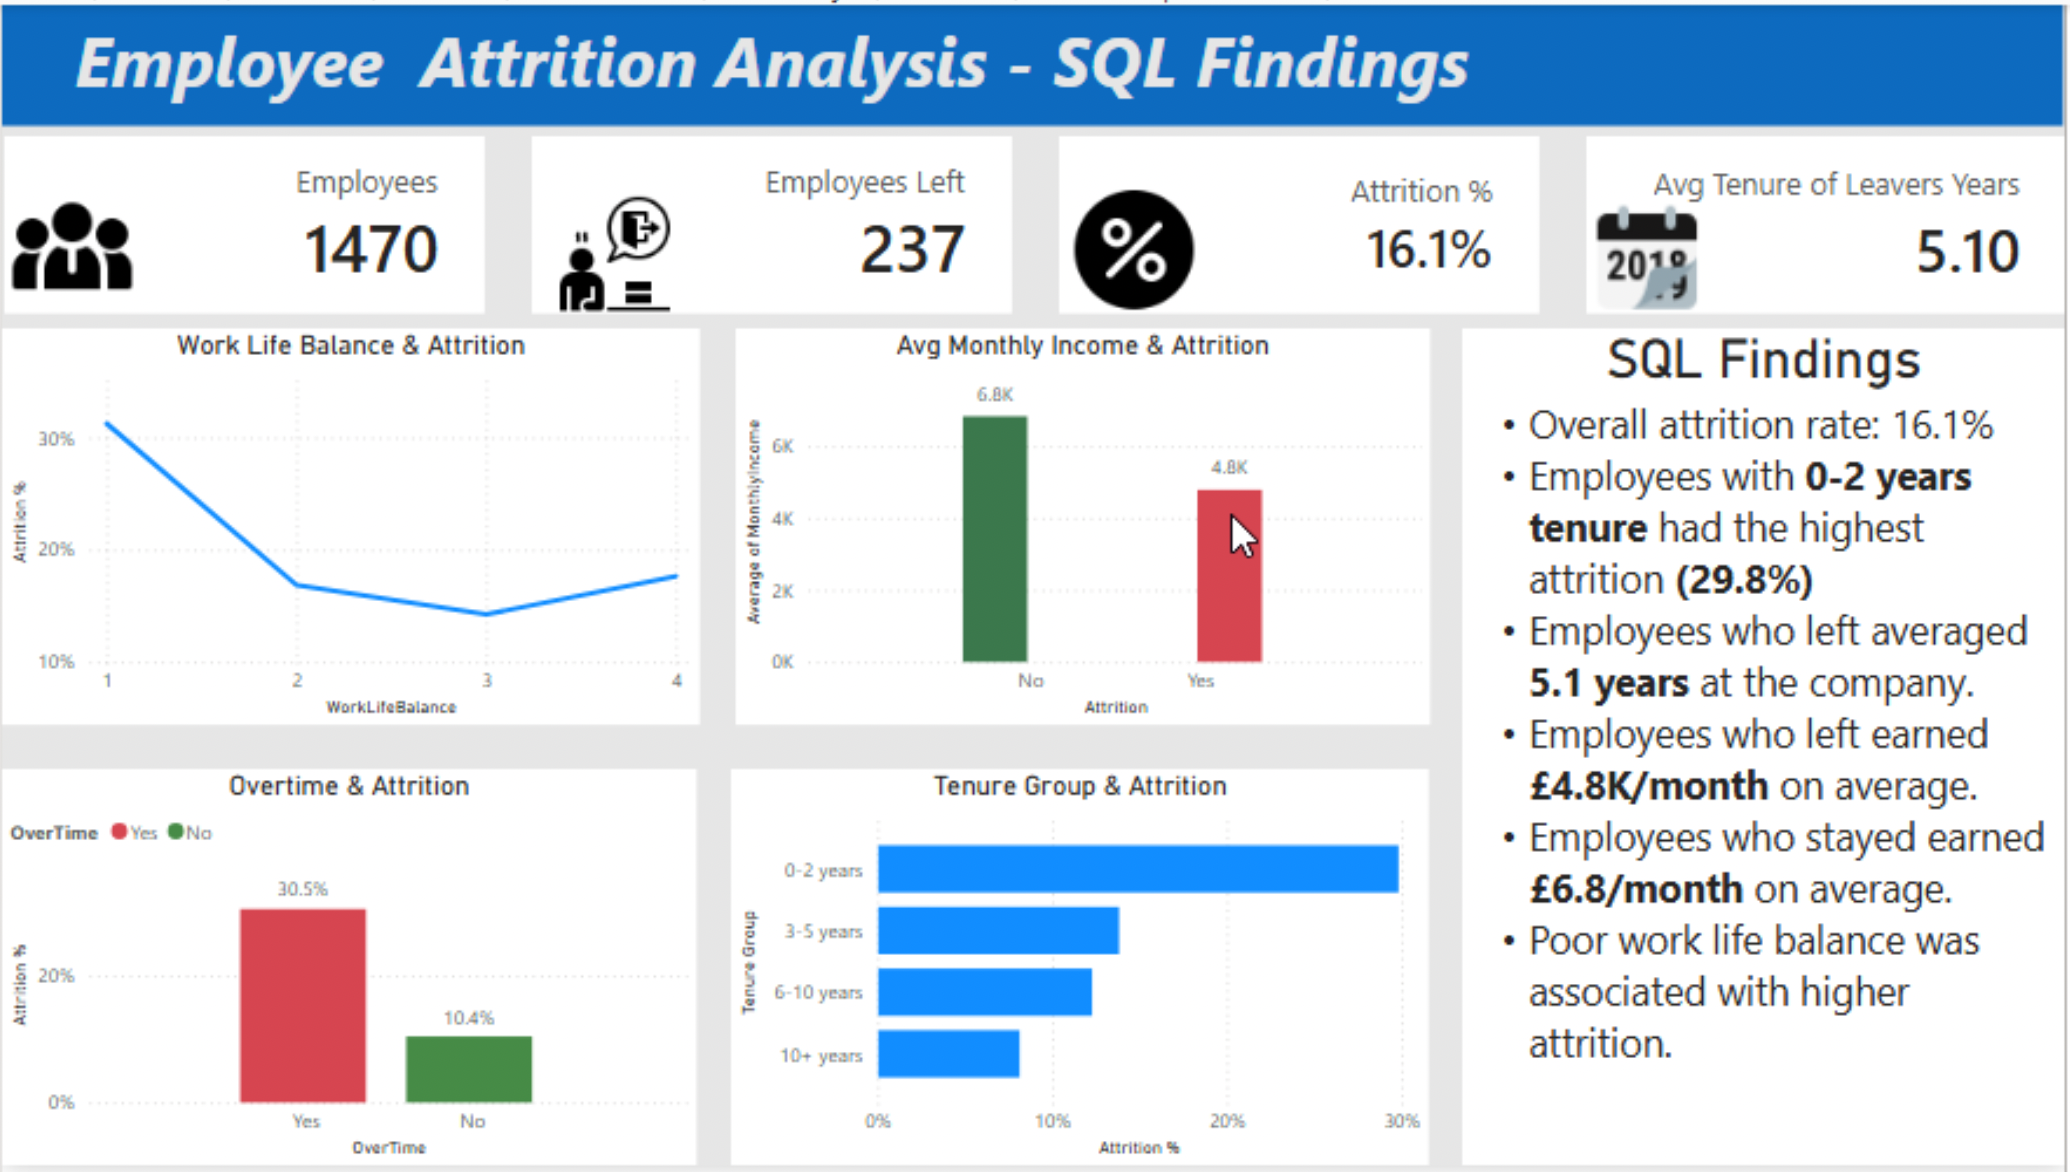

The page's visual inventory and layout, read from the dashboard file:
{"tool":"powerbi","page":{"name":"Page 2","canvas":[1280,720],"ordinal":1},"visuals":[{"type":"cardVisual","title":"Attrition % ","fields":{"Data":["Table8.Attrition %"]},"box":[655.3,81.1,298.2,109.9],"z":0},{"type":"image","box":[655.2,115.4,95.8,74],"z":1000},{"type":"cardVisual","title":"Employees","fields":{"Data":["CountNonNull(Table8.EmployeeNumber)"]},"box":[0.8,81.1,298.2,109.9],"z":2000},{"type":"image","box":[0,111,87.1,78.4],"z":3000},{"type":"cardVisual","title":"Employees Left ","fields":{"Data":["CountNonNull(Table8.EmployeeNumber)"]},"box":[328,81.1,298.2,109.9],"z":4000},{"type":"image","box":[328.6,117.7,102.9,73.2],"z":5000},{"type":"cardVisual","fields":{"Data":["Table8.Avg Tenure of Leavers Years"]},"box":[982.6,81.1,298.2,109.9],"z":6000},{"type":"image","box":[981.8,115.4,78.4,84.9],"z":7000},{"type":"textbox","box":[0,0,1279.4,74.6],"z":8000},{"type":"lineChart","title":"Work Life Balance & Attrition","fields":{"Category":["Table8.WorkLifeBalance"],"Y":["Table8.Attrition %"]},"box":[0,200.3,433.2,246],"z":10000},{"type":"columnChart","title":"Overtime & Attrition","fields":{"Category":["Table8.OverTime"],"Y":["Table8.Attrition %"],"Series":["Table8.OverTime"]},"box":[0,474.6,431,246],"z":11000},{"type":"clusteredBarChart","title":"Tenure Group & Attrition","fields":{"Category":["Table8.Tenure Group"],"Y":["Table8.Attrition %"]},"box":[452.8,474.6,433.2,246],"z":11001},{"type":"clusteredColumnChart","title":"Avg Monthly Income & Attrition","fields":{"Category":["Table8.Attrition"],"Y":["Avg(Table8.MonthlyIncome)"],"Series":["Table8.Attrition"]},"box":[455,200.3,431,246],"z":11002},{"type":"textbox","title":"SQL Findings","box":[905.6,200.3,374.4,520.3],"z":11003}]}

Visuals, with their boxes in screenshot pixels (x1, y1, x2, y2), scaled from the page's 1280x720 canvas onto the 2070x1172 screenshot:
"Attrition % " cardVisual: left=1060, top=132, right=1542, bottom=311
image: left=1060, top=188, right=1215, bottom=308
"Employees" cardVisual: left=1, top=132, right=484, bottom=311
image: left=0, top=181, right=141, bottom=308
"Employees Left " cardVisual: left=530, top=132, right=1013, bottom=311
image: left=531, top=192, right=698, bottom=311
cardVisual - Table8.Avg Tenure of Leavers Years: left=1589, top=132, right=2069, bottom=311
image: left=1588, top=188, right=1715, bottom=326
textbox: left=0, top=0, right=2069, bottom=121
"Work Life Balance & Attrition" lineChart: left=0, top=326, right=701, bottom=726
"Overtime & Attrition" columnChart: left=0, top=773, right=697, bottom=1171
"Tenure Group & Attrition" clusteredBarChart: left=732, top=773, right=1433, bottom=1171
"Avg Monthly Income & Attrition" clusteredColumnChart: left=736, top=326, right=1433, bottom=726
"SQL Findings" textbox: left=1465, top=326, right=2069, bottom=1171
